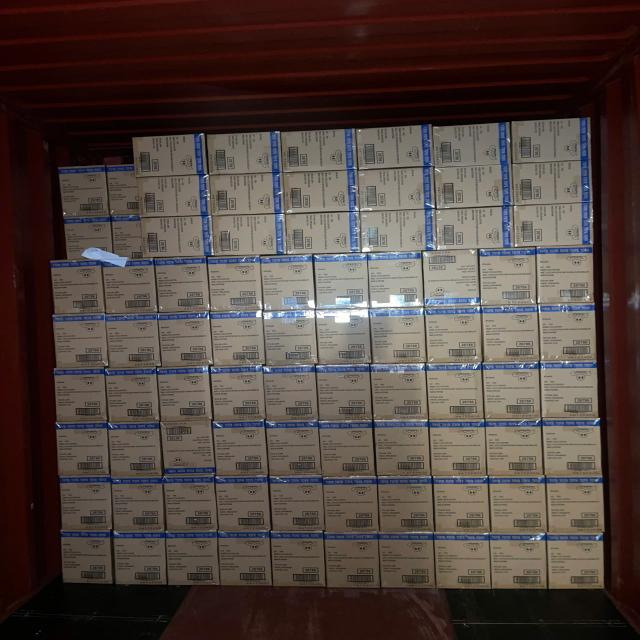Carton: (512, 200, 594, 248), (512, 159, 595, 206), (544, 474, 606, 535), (511, 117, 593, 163), (434, 206, 514, 252), (434, 163, 514, 209), (432, 122, 512, 168), (358, 166, 436, 213), (316, 419, 378, 478), (357, 124, 436, 170), (478, 248, 538, 308), (547, 532, 607, 592), (424, 306, 483, 367), (481, 303, 540, 364), (482, 361, 541, 422), (421, 248, 480, 308), (485, 418, 544, 478), (424, 361, 484, 420), (544, 418, 603, 478), (431, 475, 492, 533), (538, 359, 599, 417), (488, 474, 546, 534), (373, 418, 431, 478), (536, 245, 594, 305), (539, 302, 597, 362), (377, 531, 434, 592), (366, 252, 426, 309), (270, 530, 326, 591), (368, 307, 424, 368), (132, 132, 207, 177), (371, 362, 429, 420), (214, 474, 272, 532), (315, 308, 372, 367), (105, 366, 161, 426), (357, 208, 433, 252), (208, 172, 284, 216), (280, 130, 359, 172), (285, 212, 362, 255), (284, 170, 361, 213), (429, 419, 486, 477), (489, 532, 546, 590), (432, 531, 488, 590), (262, 310, 318, 369), (51, 312, 107, 371), (158, 420, 217, 476), (59, 528, 114, 588), (209, 310, 264, 370), (207, 131, 282, 175), (212, 212, 287, 256), (138, 172, 211, 217), (324, 531, 380, 589), (377, 476, 433, 534), (210, 365, 266, 423), (158, 310, 212, 370), (263, 364, 317, 424), (155, 254, 209, 314), (140, 215, 215, 258), (322, 476, 379, 532), (264, 420, 320, 477), (156, 365, 212, 422), (163, 474, 219, 531), (313, 253, 368, 311), (269, 474, 324, 532), (113, 530, 168, 588), (260, 254, 315, 312), (216, 530, 270, 589), (103, 256, 154, 318), (111, 476, 167, 532), (317, 367, 374, 422), (207, 255, 262, 312), (107, 422, 163, 477), (55, 421, 110, 477), (212, 419, 266, 476), (165, 529, 218, 587), (105, 314, 160, 369), (50, 259, 104, 315), (54, 366, 107, 423), (58, 474, 111, 530), (209, 259, 262, 284)
